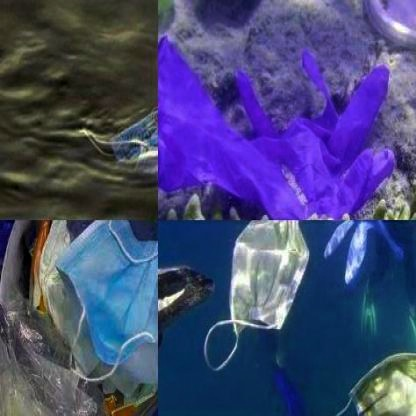Mask: (56, 220, 157, 389), (201, 220, 309, 375), (83, 86, 157, 187), (327, 335, 415, 415)
glove: (158, 40, 390, 220), (318, 220, 406, 284)
